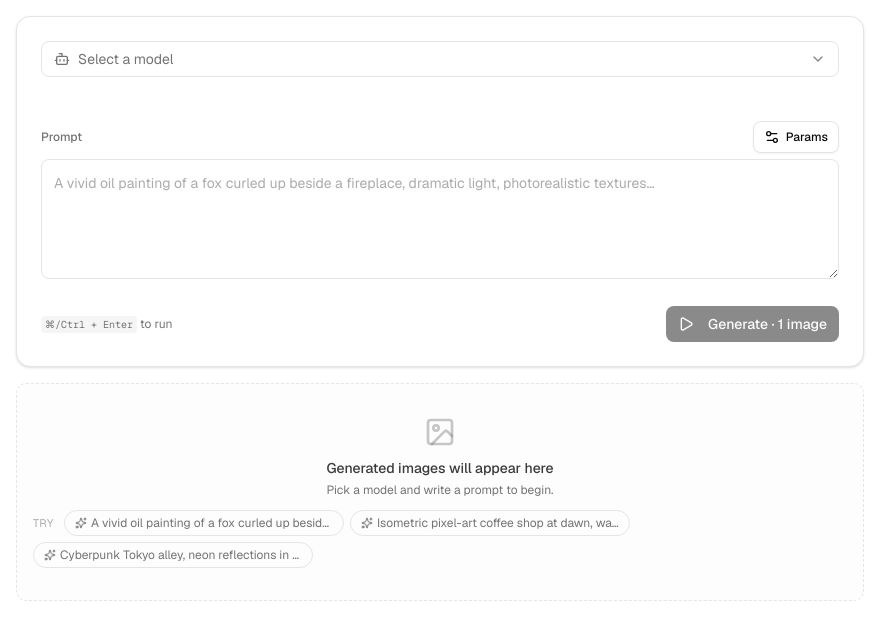
Test: ImagePlayground — empty state › clicking a prompt chip fills the prompt textarea
Step 1. Click the button "Isometric pixel-art coffee shop at dawn, warm lighting" → (490, 523), box [350,510,630,536]
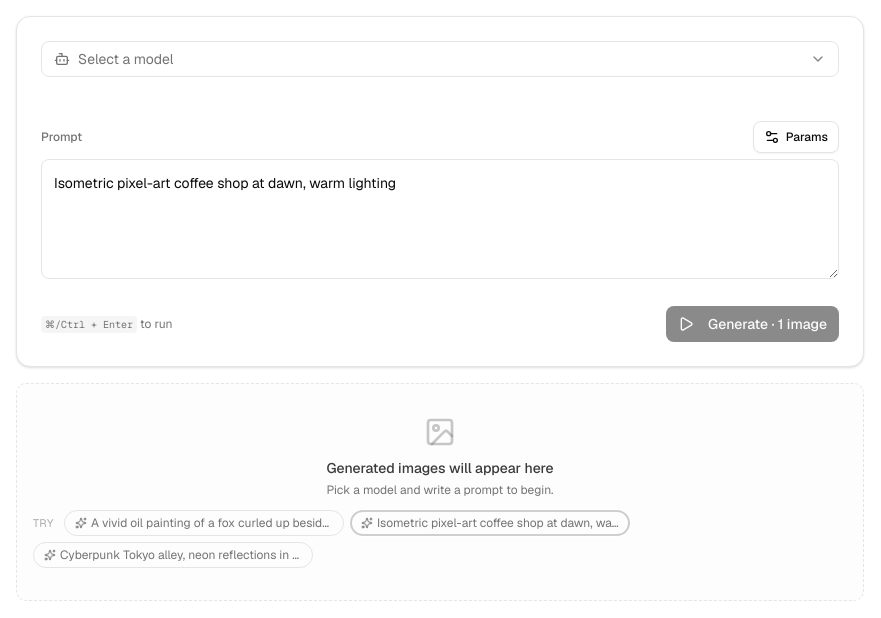
Check: the text box showing "Isometric pixel-art coffee shop at dawn, warm lighting" is shown, box [41,159,839,279]
